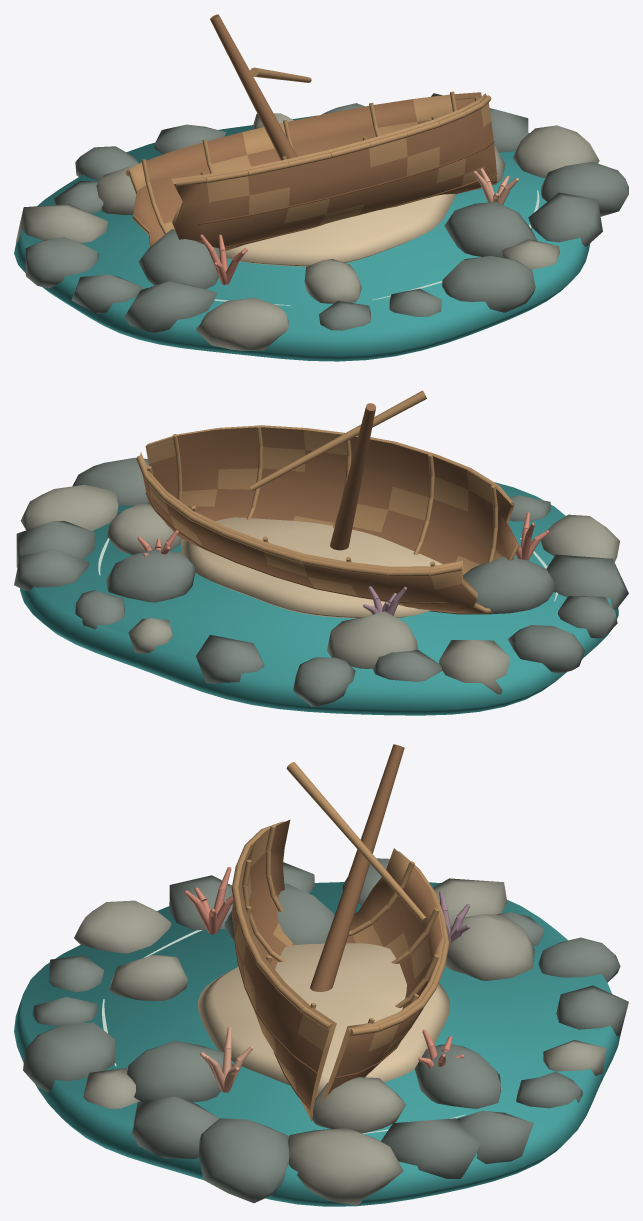
The model's file is shipwreck-reef-v1.glb.
3 views of the same model, one above another, from view 1: azimuth 30°, elevation 25°; view 2: azimuth 150°, elevation 25°; view 3: azimuth 270°, elevation 25° (orthographic). The views are drawn at different scales.
Parts seen in each view (by area): view 1: Shipwreck | collectible export; view 2: Shipwreck | collectible export; view 3: Shipwreck | collectible export.
Part boxes in pixels (left/top/right/bottom): Shipwreck | collectible export: left=14, top=14, right=628, bottom=361; Shipwreck | collectible export: left=14, top=390, right=628, bottom=715; Shipwreck | collectible export: left=14, top=744, right=628, bottom=1206.
Size of the model in its own units: 1.77 by 0.723 by 1.46.
